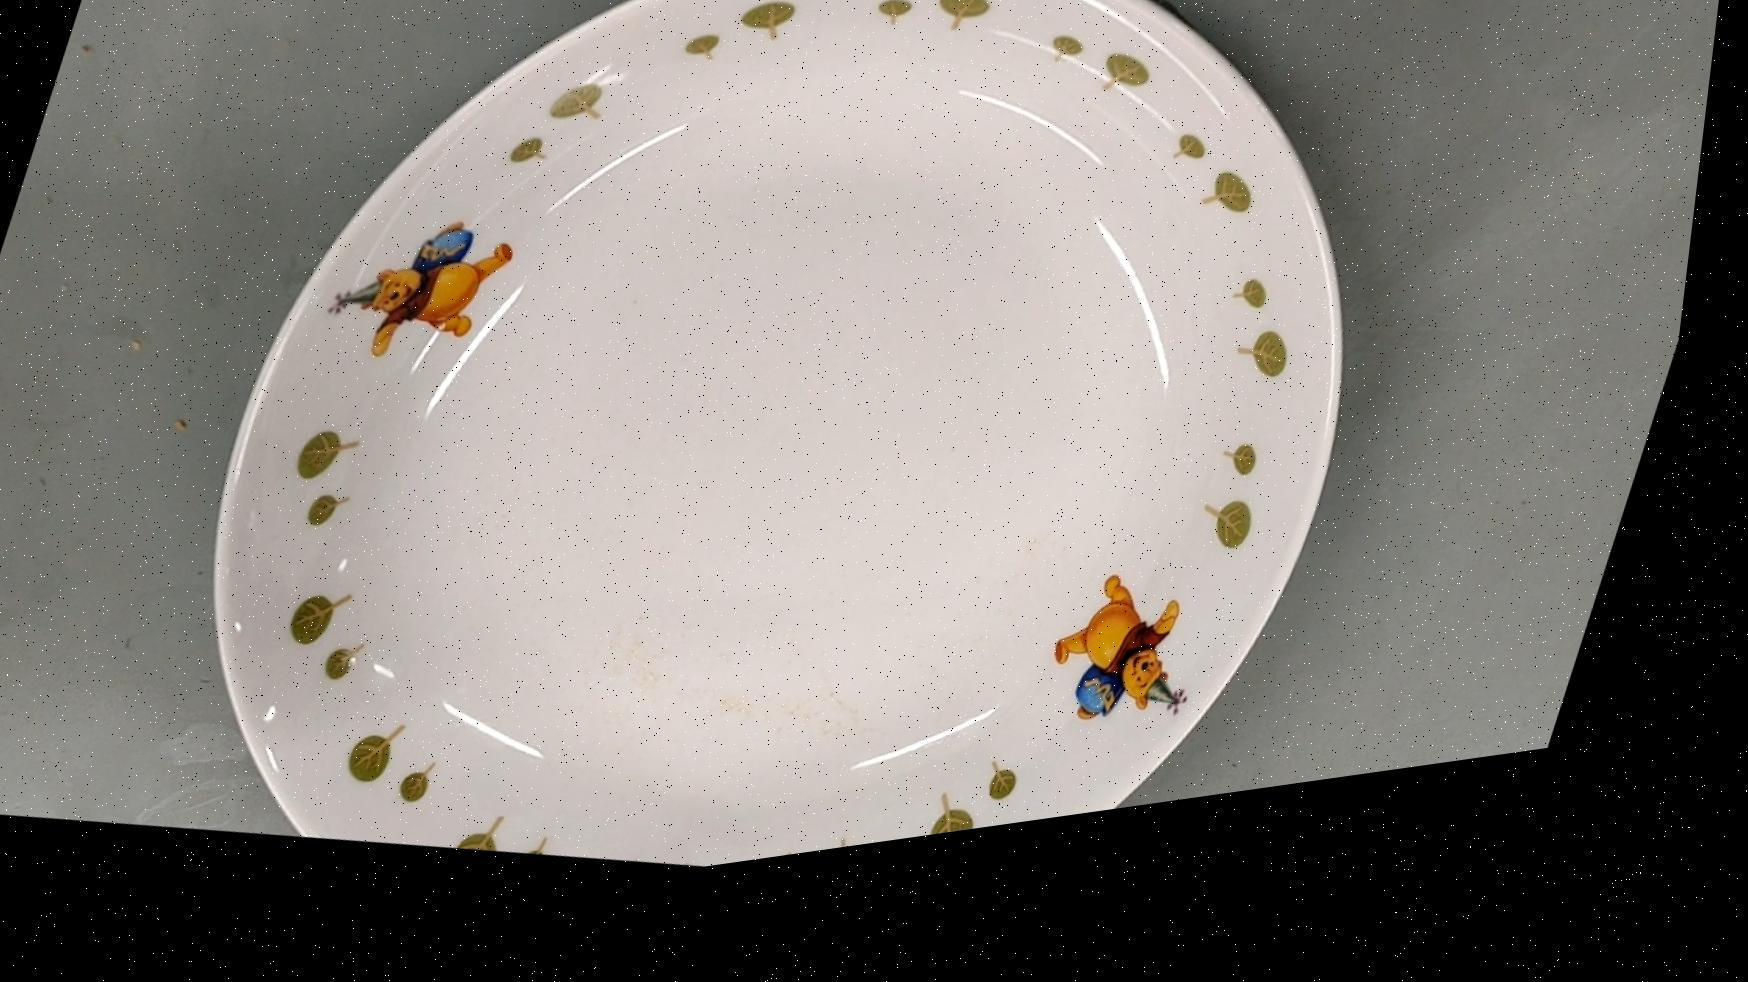plate: (125, 0, 1511, 958)
